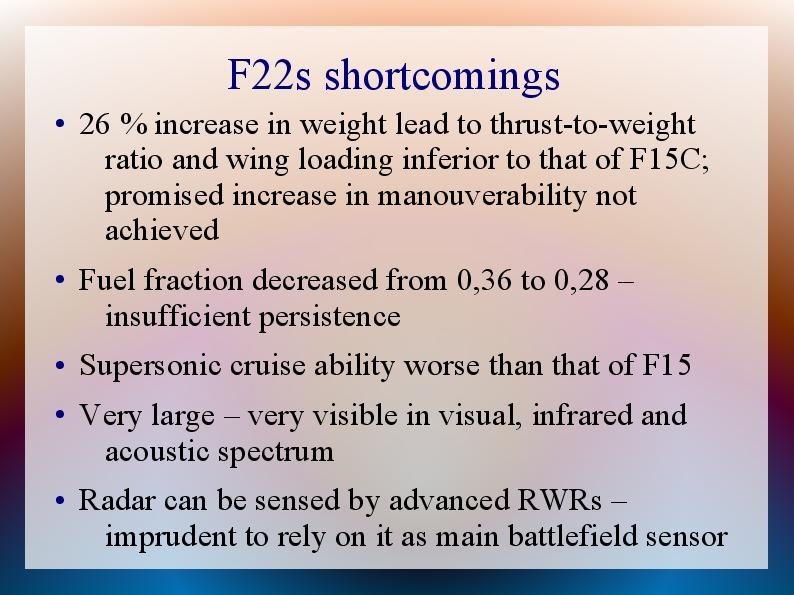paragraph: (46, 104, 744, 559)
title: (223, 44, 575, 107)
